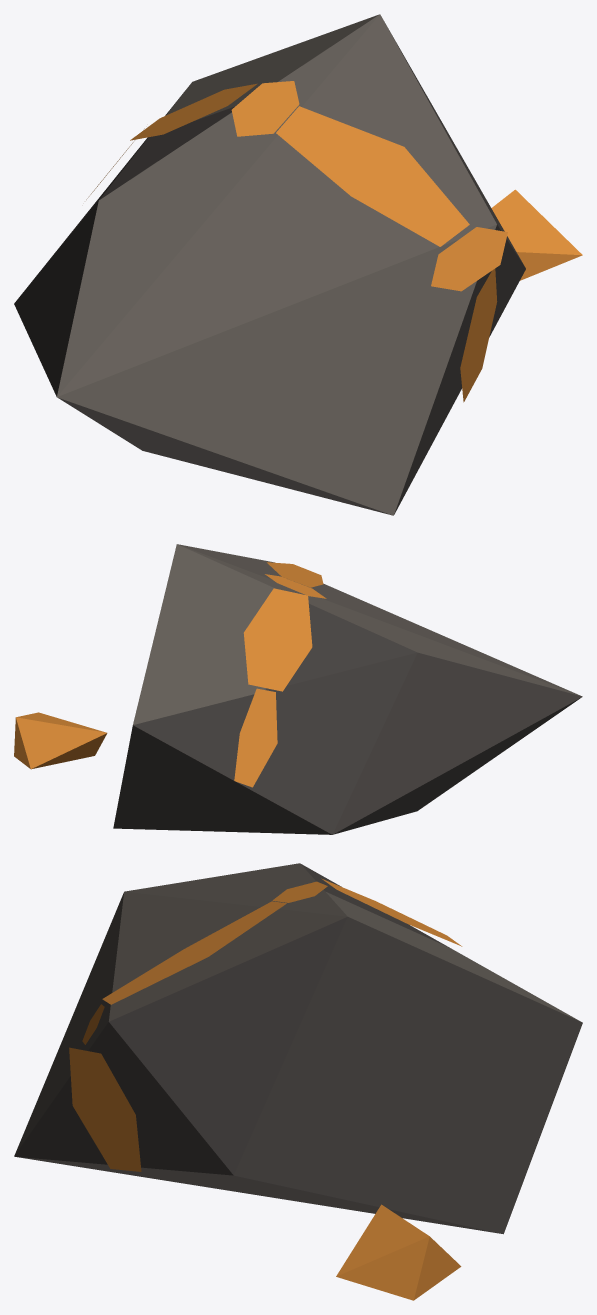
The model's file is prop_lava_cinder_0.glb.
3 views of the same model, one above another, from view 1: azimuth 30°, elevation 25°; view 2: azimuth 150°, elevation 25°; view 3: azimuth 270°, elevation 25° (orthographic). The views are drawn at different scales.
Visible parts, largest first — view 1: Body; view 2: Body; view 3: Body.
Part boxes in pixels (left/top/right/bottom): Body: left=14, top=14, right=582, bottom=515; Body: left=14, top=544, right=582, bottom=834; Body: left=14, top=863, right=582, bottom=1300.
Bounding box in the file's own units: 0.6793 × 0.3387 × 0.5542.
